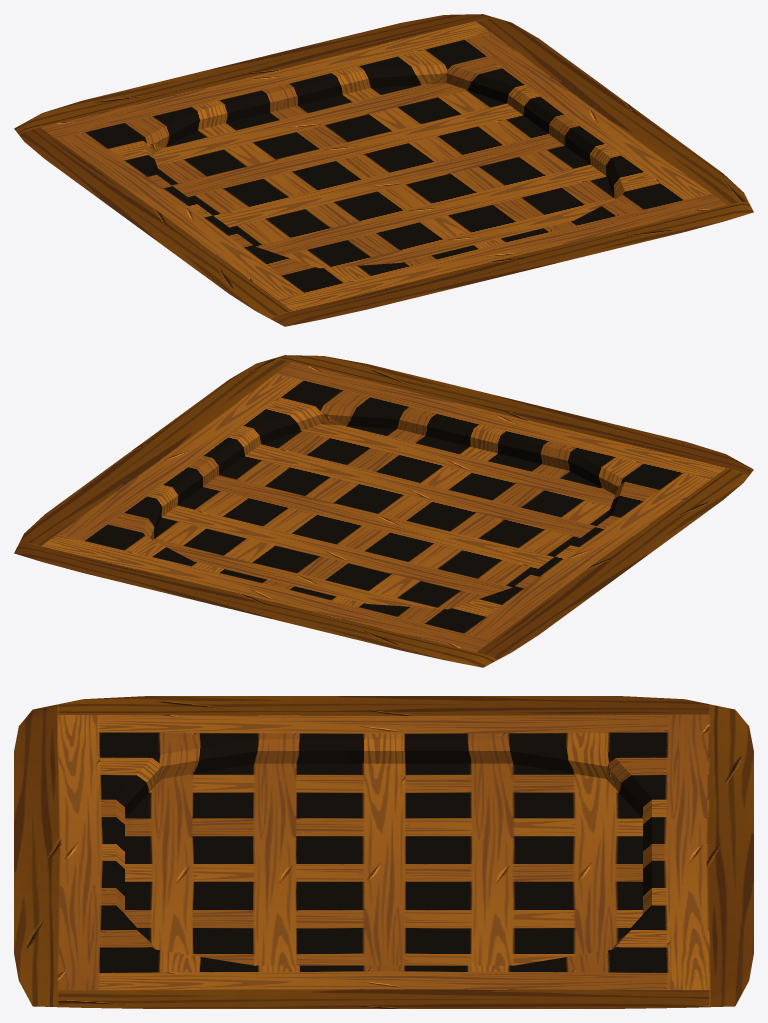
File: LCR_Grille.fbx
3 views of the same model, one above another, from view 1: azimuth 30°, elevation 25°; view 2: azimuth 150°, elevation 25°; view 3: azimuth 270°, elevation 25° (orthographic). The views are drawn at different scales.
Parts seen in each view (by area): view 1: Cube; view 2: Cube; view 3: Cube.
Part boxes in pixels (bbox=[...]): Cube: bbox=[14, 14, 753, 326]; Cube: bbox=[14, 355, 753, 667]; Cube: bbox=[14, 696, 753, 1008].
Size of the model in its own units: 300 by 9.23 by 300.
